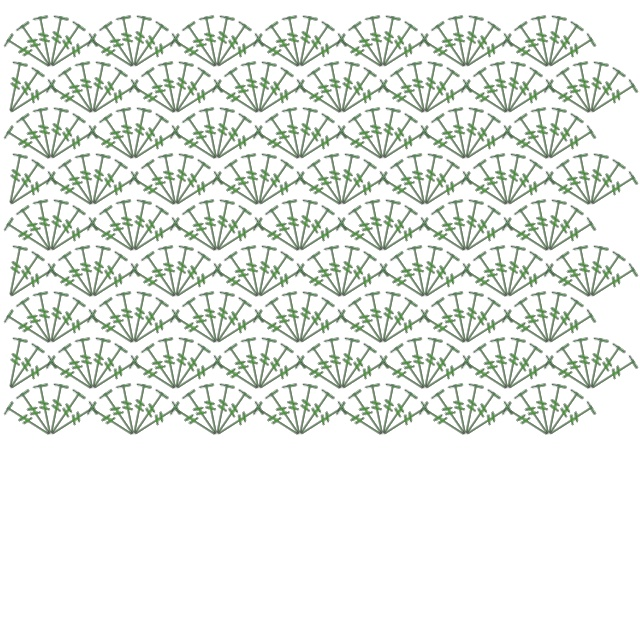fan: (2, 31, 56, 75), (46, 31, 100, 75), (85, 31, 139, 75), (129, 31, 183, 75), (168, 31, 222, 75), (212, 31, 266, 75), (251, 31, 305, 75), (295, 31, 349, 75), (334, 31, 388, 75), (378, 31, 432, 75), (417, 31, 471, 75), (461, 31, 515, 75), (500, 31, 554, 75), (544, 31, 598, 75), (5, 77, 59, 121), (44, 77, 98, 121), (88, 77, 142, 121), (127, 77, 181, 121), (171, 77, 225, 121), (210, 77, 264, 121), (254, 77, 308, 121), (293, 77, 347, 121), (337, 77, 391, 121), (376, 77, 430, 121), (420, 77, 474, 121), (459, 77, 513, 121), (503, 77, 557, 121), (542, 77, 596, 121), (586, 77, 640, 121), (2, 123, 56, 167), (46, 123, 100, 167), (85, 123, 139, 167), (129, 123, 183, 167), (168, 123, 222, 167), (212, 123, 266, 167), (251, 123, 305, 167), (295, 123, 349, 167), (334, 123, 388, 167), (378, 123, 432, 167), (417, 123, 471, 167), (461, 123, 515, 167), (500, 123, 554, 167), (544, 123, 598, 167), (5, 169, 59, 213), (44, 169, 98, 213), (88, 169, 142, 213), (127, 169, 181, 213), (171, 169, 225, 213), (210, 169, 264, 213), (254, 169, 308, 213), (293, 169, 347, 213), (337, 169, 391, 213), (376, 169, 430, 213), (420, 169, 474, 213), (459, 169, 513, 213), (503, 169, 557, 213), (542, 169, 596, 213), (586, 169, 640, 213), (2, 215, 56, 259), (46, 215, 100, 259), (85, 215, 139, 259), (129, 215, 183, 259), (168, 215, 222, 259), (212, 215, 266, 259), (251, 215, 305, 259), (295, 215, 349, 259), (334, 215, 388, 259), (378, 215, 432, 259), (417, 215, 471, 259), (461, 215, 515, 259), (500, 215, 554, 259), (544, 215, 598, 259), (5, 261, 59, 305), (44, 261, 98, 305), (88, 261, 142, 305), (127, 261, 181, 305), (171, 261, 225, 305), (210, 261, 264, 305), (254, 261, 308, 305), (293, 261, 347, 305), (337, 261, 391, 305), (376, 261, 430, 305), (420, 261, 474, 305), (459, 261, 513, 305), (503, 261, 557, 305), (542, 261, 596, 305), (586, 261, 640, 305), (2, 307, 56, 351), (46, 307, 100, 351), (85, 307, 139, 351), (129, 307, 183, 351), (168, 307, 222, 351), (212, 307, 266, 351), (251, 307, 305, 351), (295, 307, 349, 351), (334, 307, 388, 351), (378, 307, 432, 351), (417, 307, 471, 351), (461, 307, 515, 351), (500, 307, 554, 351), (544, 307, 598, 351), (5, 353, 59, 397), (44, 353, 98, 397), (88, 353, 142, 397), (127, 353, 181, 397), (171, 353, 225, 397), (210, 353, 264, 397), (254, 353, 308, 397), (293, 353, 347, 397), (337, 353, 391, 397), (376, 353, 430, 397), (420, 353, 474, 397), (459, 353, 513, 397), (503, 353, 557, 397), (542, 353, 596, 397), (586, 353, 640, 397), (2, 399, 56, 443), (46, 399, 100, 443), (85, 399, 139, 443), (129, 399, 183, 443), (168, 399, 222, 443), (212, 399, 266, 443), (251, 399, 305, 443), (295, 399, 349, 443), (334, 399, 388, 443), (378, 399, 432, 443), (417, 399, 471, 443), (461, 399, 515, 443), (500, 399, 554, 443), (544, 399, 598, 443), (14, 19, 58, 72), (44, 19, 88, 72), (97, 19, 141, 72), (127, 19, 171, 72), (180, 19, 224, 72), (210, 19, 254, 72), (263, 19, 307, 72), (293, 19, 337, 72), (346, 19, 390, 72), (376, 19, 420, 72), (429, 19, 473, 72), (459, 19, 503, 72), (512, 19, 556, 72), (542, 19, 586, 72), (3, 65, 47, 118), (56, 65, 100, 118), (86, 65, 130, 118), (139, 65, 183, 118), (169, 65, 213, 118), (222, 65, 266, 118), (252, 65, 296, 118), (305, 65, 349, 118), (335, 65, 379, 118), (388, 65, 432, 118), (418, 65, 462, 118), (471, 65, 515, 118), (501, 65, 545, 118), (554, 65, 598, 118), (584, 65, 628, 118), (14, 111, 58, 164), (44, 111, 88, 164), (97, 111, 141, 164), (127, 111, 171, 164), (180, 111, 224, 164), (210, 111, 254, 164), (263, 111, 307, 164), (293, 111, 337, 164), (346, 111, 390, 164), (376, 111, 420, 164), (429, 111, 473, 164), (459, 111, 503, 164), (512, 111, 556, 164), (542, 111, 586, 164), (3, 157, 47, 210), (56, 157, 100, 210), (86, 157, 130, 210), (139, 157, 183, 210), (169, 157, 213, 210), (222, 157, 266, 210), (252, 157, 296, 210), (305, 157, 349, 210), (335, 157, 379, 210), (388, 157, 432, 210), (418, 157, 462, 210), (471, 157, 515, 210), (501, 157, 545, 210), (554, 157, 598, 210), (584, 157, 628, 210), (14, 203, 58, 256), (44, 203, 88, 256), (97, 203, 141, 256), (127, 203, 171, 256), (180, 203, 224, 256), (210, 203, 254, 256), (263, 203, 307, 256), (293, 203, 337, 256), (346, 203, 390, 256), (376, 203, 420, 256), (429, 203, 473, 256), (459, 203, 503, 256), (512, 203, 556, 256), (542, 203, 586, 256), (3, 249, 47, 302), (56, 249, 100, 302), (86, 249, 130, 302), (139, 249, 183, 302), (169, 249, 213, 302), (222, 249, 266, 302), (252, 249, 296, 302), (305, 249, 349, 302), (335, 249, 379, 302), (388, 249, 432, 302), (418, 249, 462, 302), (471, 249, 515, 302), (501, 249, 545, 302), (554, 249, 598, 302), (584, 249, 628, 302), (14, 295, 58, 348), (44, 295, 88, 348), (97, 295, 141, 348), (127, 295, 171, 348), (180, 295, 224, 348), (210, 295, 254, 348), (263, 295, 307, 348), (293, 295, 337, 348), (346, 295, 390, 348), (376, 295, 420, 348), (429, 295, 473, 348), (459, 295, 503, 348), (512, 295, 556, 348), (542, 295, 586, 348), (3, 341, 47, 394), (56, 341, 100, 394), (86, 341, 130, 394), (139, 341, 183, 394), (169, 341, 213, 394), (222, 341, 266, 394), (252, 341, 296, 394), (305, 341, 349, 394), (335, 341, 379, 394), (388, 341, 432, 394), (418, 341, 462, 394), (471, 341, 515, 394), (501, 341, 545, 394), (554, 341, 598, 394), (584, 341, 628, 394), (14, 387, 58, 440), (44, 387, 88, 440), (97, 387, 141, 440), (127, 387, 171, 440), (180, 387, 224, 440), (210, 387, 254, 440), (263, 387, 307, 440), (293, 387, 337, 440), (346, 387, 390, 440), (376, 387, 420, 440), (429, 387, 473, 440), (459, 387, 503, 440), (512, 387, 556, 440), (542, 387, 586, 440), (32, 14, 60, 69), (42, 14, 70, 69), (115, 14, 143, 69), (125, 14, 153, 69), (198, 14, 226, 69), (208, 14, 236, 69), (281, 14, 309, 69), (291, 14, 319, 69), (364, 14, 392, 69), (374, 14, 402, 69), (447, 14, 475, 69), (457, 14, 485, 69), (530, 14, 558, 69), (540, 14, 568, 69), (1, 60, 29, 115), (74, 60, 102, 115), (84, 60, 112, 115), (157, 60, 185, 115), (167, 60, 195, 115), (240, 60, 268, 115), (250, 60, 278, 115), (323, 60, 351, 115), (333, 60, 361, 115), (406, 60, 434, 115), (416, 60, 444, 115), (489, 60, 517, 115), (499, 60, 527, 115), (572, 60, 600, 115), (582, 60, 610, 115), (32, 106, 60, 161), (42, 106, 70, 161), (115, 106, 143, 161), (125, 106, 153, 161), (198, 106, 226, 161), (208, 106, 236, 161), (281, 106, 309, 161), (291, 106, 319, 161), (364, 106, 392, 161), (374, 106, 402, 161), (447, 106, 475, 161), (457, 106, 485, 161), (530, 106, 558, 161), (540, 106, 568, 161), (1, 152, 29, 207), (74, 152, 102, 207), (84, 152, 112, 207), (157, 152, 185, 207), (167, 152, 195, 207), (240, 152, 268, 207), (250, 152, 278, 207), (323, 152, 351, 207), (333, 152, 361, 207), (406, 152, 434, 207), (416, 152, 444, 207), (489, 152, 517, 207), (499, 152, 527, 207), (572, 152, 600, 207), (582, 152, 610, 207), (32, 198, 60, 253), (42, 198, 70, 253), (115, 198, 143, 253), (125, 198, 153, 253), (198, 198, 226, 253), (208, 198, 236, 253), (281, 198, 309, 253), (291, 198, 319, 253), (364, 198, 392, 253), (374, 198, 402, 253), (447, 198, 475, 253), (457, 198, 485, 253), (530, 198, 558, 253), (540, 198, 568, 253), (1, 244, 29, 299), (74, 244, 102, 299), (84, 244, 112, 299), (157, 244, 185, 299), (167, 244, 195, 299), (240, 244, 268, 299), (250, 244, 278, 299), (323, 244, 351, 299), (333, 244, 361, 299), (406, 244, 434, 299), (416, 244, 444, 299), (489, 244, 517, 299), (499, 244, 527, 299), (572, 244, 600, 299), (582, 244, 610, 299), (32, 290, 60, 345), (42, 290, 70, 345), (115, 290, 143, 345), (125, 290, 153, 345), (198, 290, 226, 345), (208, 290, 236, 345), (281, 290, 309, 345), (291, 290, 319, 345), (364, 290, 392, 345), (374, 290, 402, 345), (447, 290, 475, 345), (457, 290, 485, 345), (530, 290, 558, 345), (540, 290, 568, 345), (1, 336, 29, 391), (74, 336, 102, 391), (84, 336, 112, 391), (157, 336, 185, 391), (167, 336, 195, 391), (240, 336, 268, 391), (250, 336, 278, 391), (323, 336, 351, 391), (333, 336, 361, 391), (406, 336, 434, 391), (416, 336, 444, 391), (489, 336, 517, 391), (499, 336, 527, 391), (572, 336, 600, 391), (582, 336, 610, 391), (32, 382, 60, 437), (42, 382, 70, 437), (115, 382, 143, 437), (125, 382, 153, 437), (198, 382, 226, 437), (208, 382, 236, 437), (281, 382, 309, 437), (291, 382, 319, 437), (364, 382, 392, 437), (374, 382, 402, 437), (447, 382, 475, 437), (457, 382, 485, 437), (530, 382, 558, 437), (540, 382, 568, 437)
